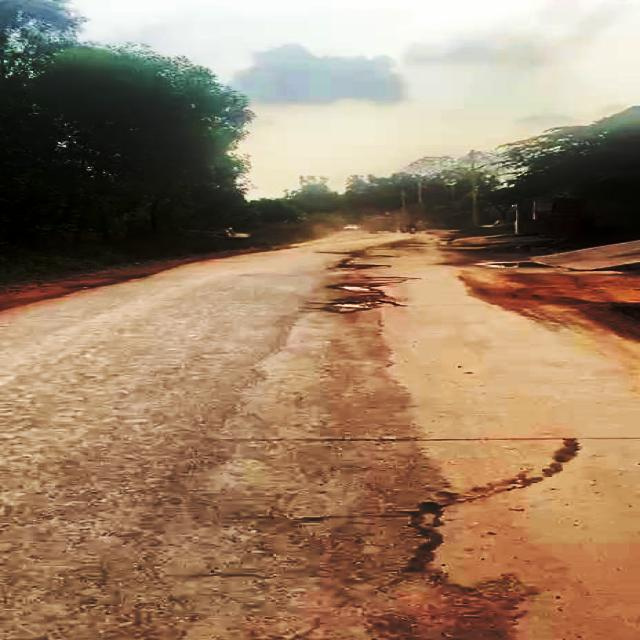pothole: (323, 296, 393, 314), (328, 279, 384, 296)
